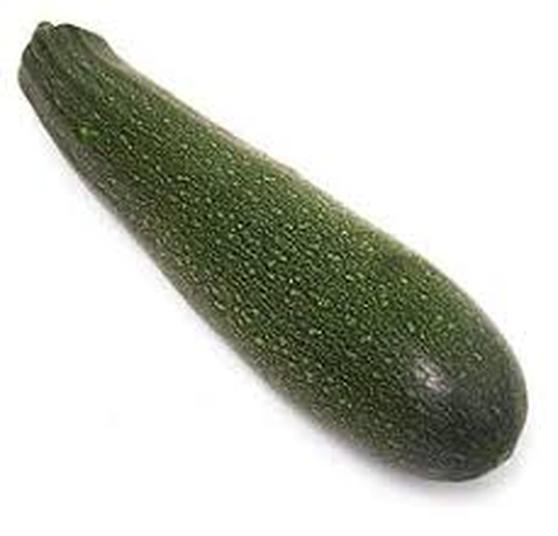zucchini: (11, 13, 532, 482)
